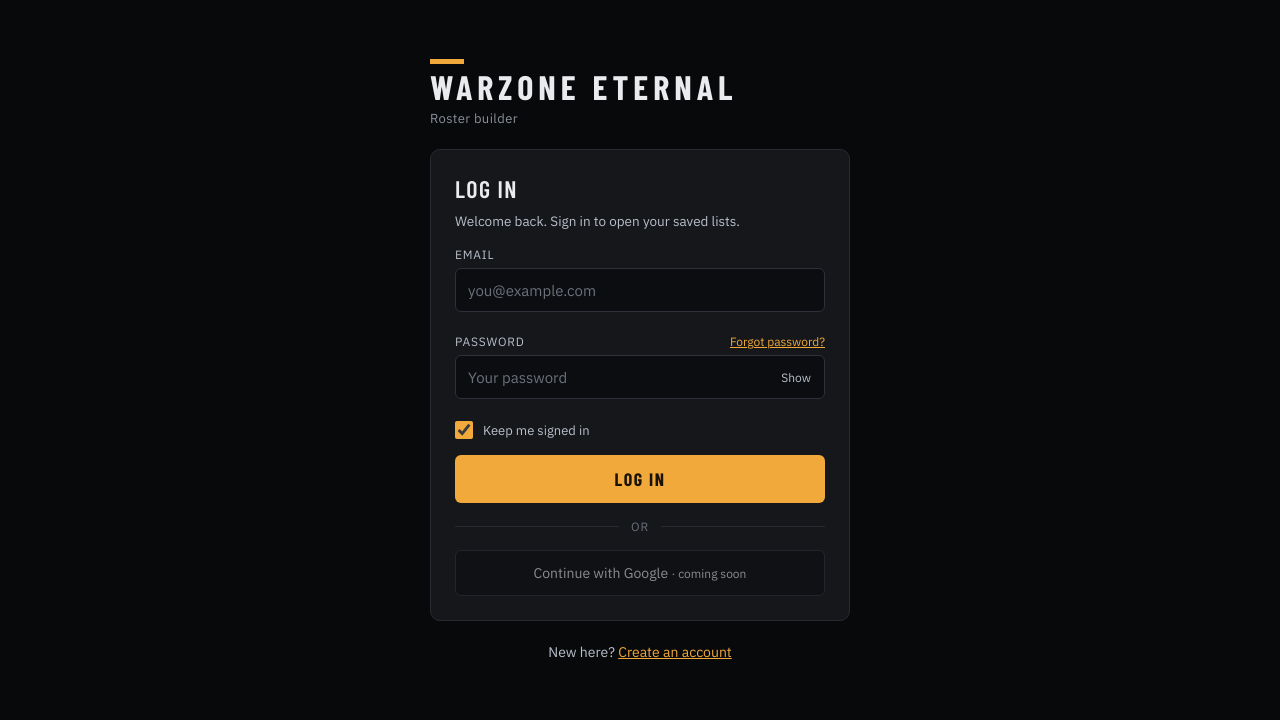
Test: sharing › needs a saved list before it can be shared
The image size is (1280, 720).
Type "demo@example.com" into the field labelled "Email" at (640, 290), box [455,268,825,312]
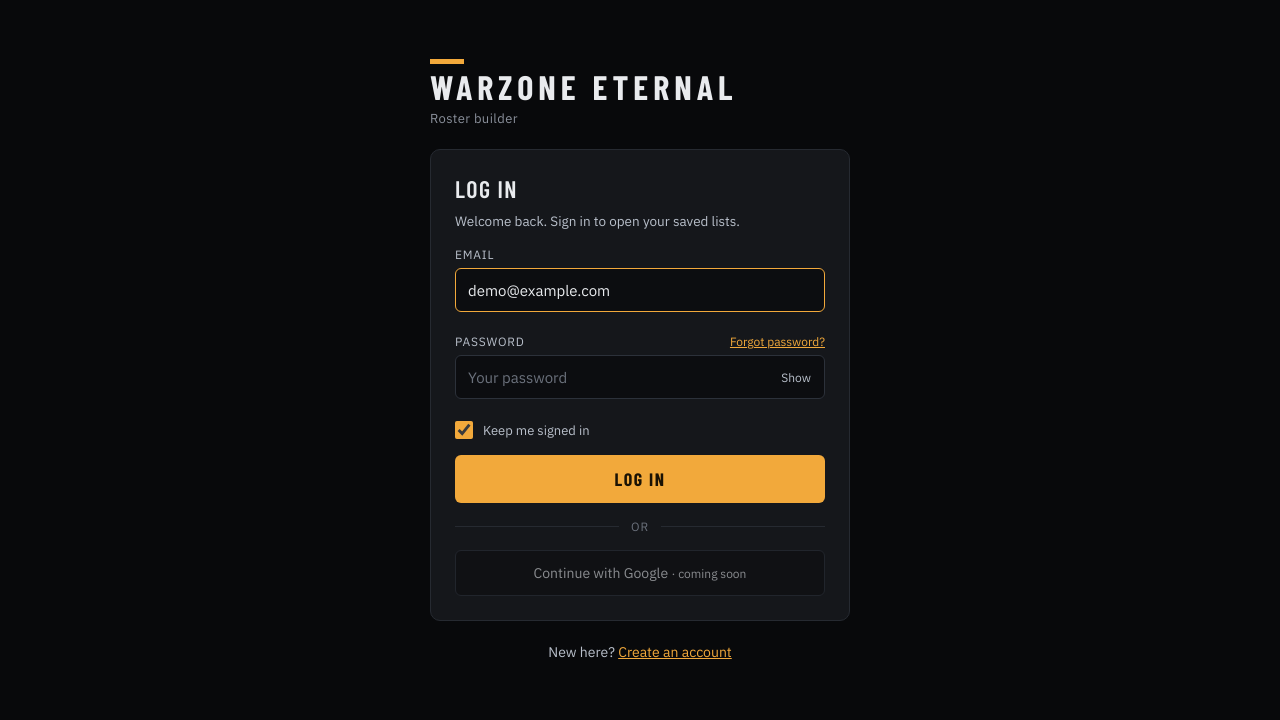
Type "Demo1234!" into the password field labelled "Password" at (640, 377), box [455,355,825,399]
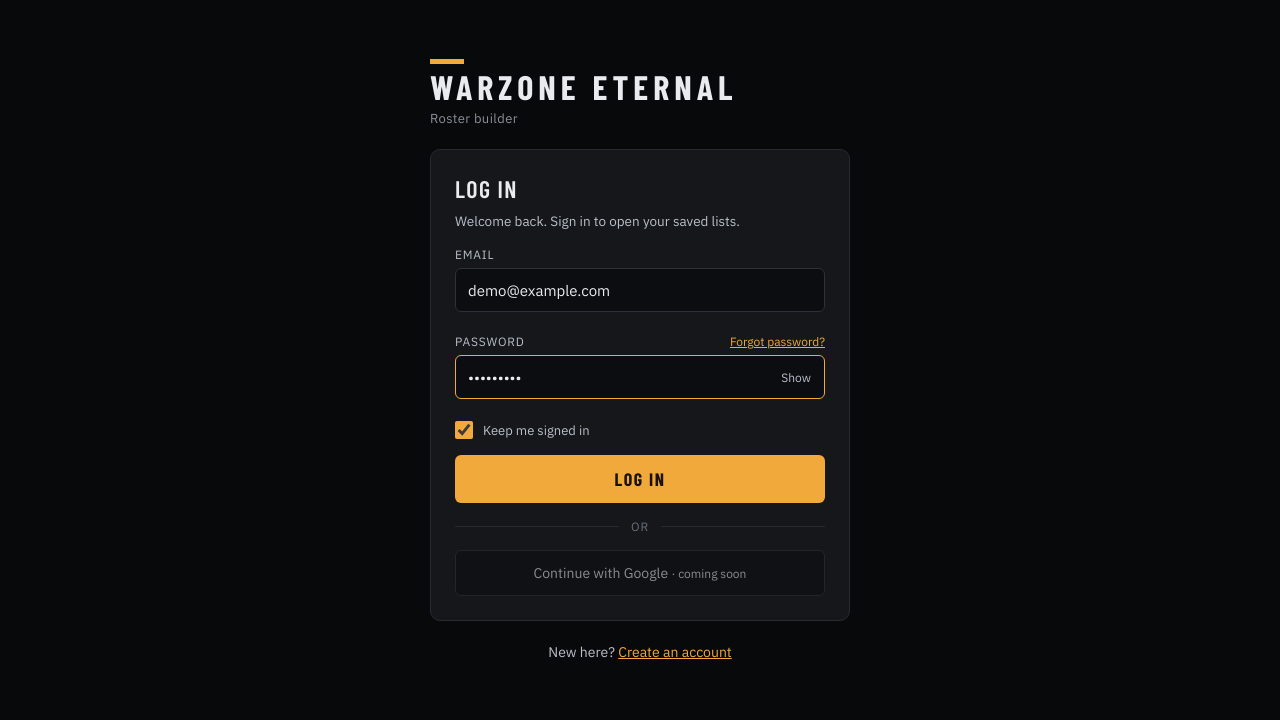
Click the button "Log in" at (640, 479), box [455,455,825,503]
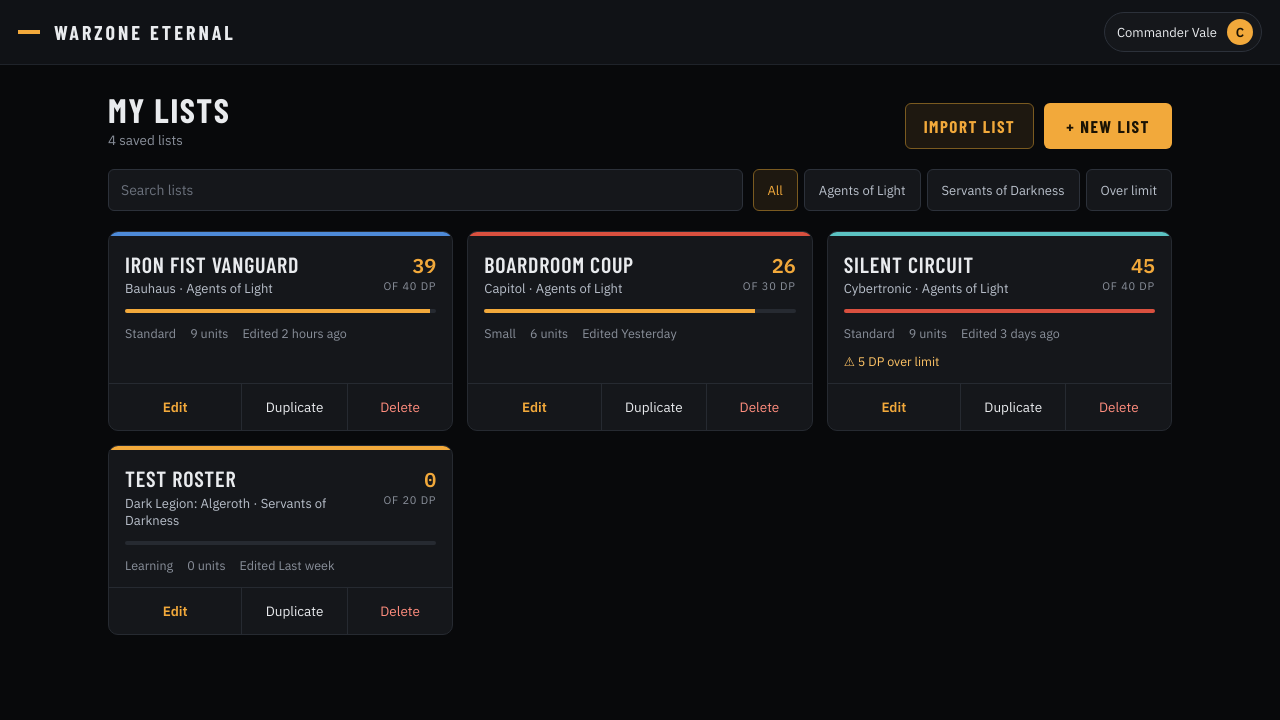
Now the text "4 saved lists" is shown, box [108,131,183,149]
Click the button "+ New list" at (1108, 126), box [1044,103,1172,149]
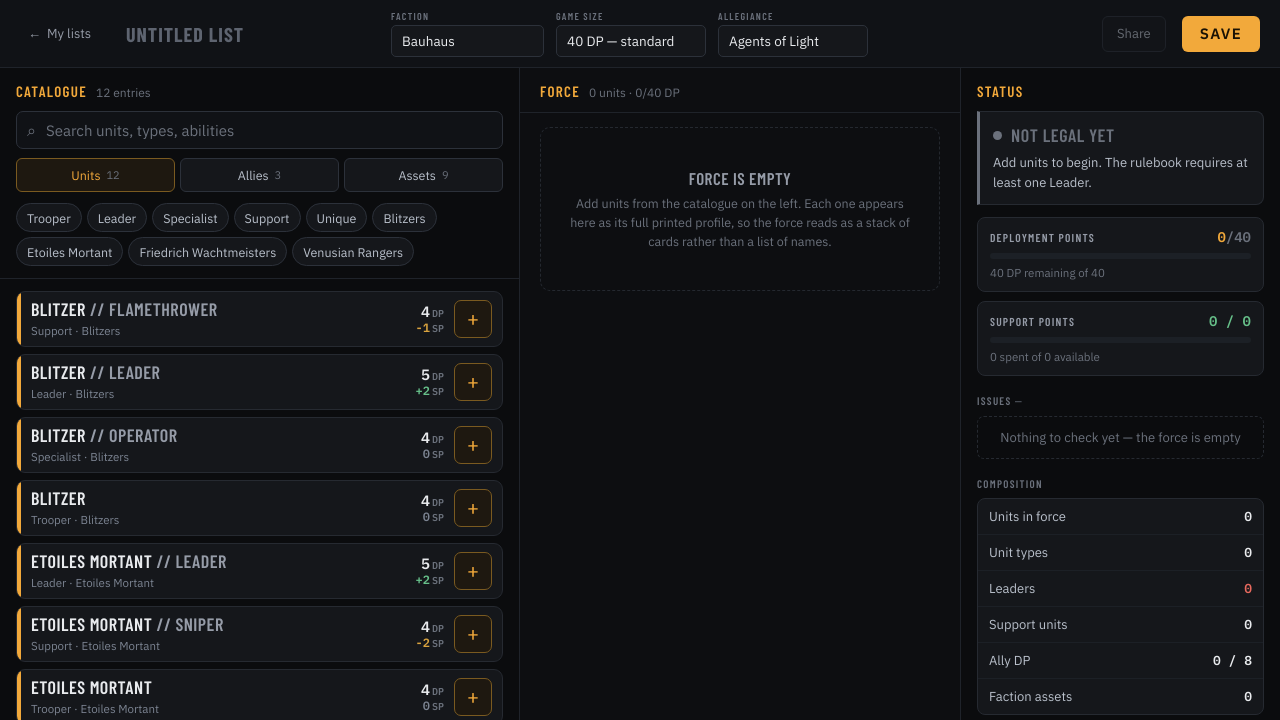
Now the button "Share" is disabled, box [1102,16,1166,52]
